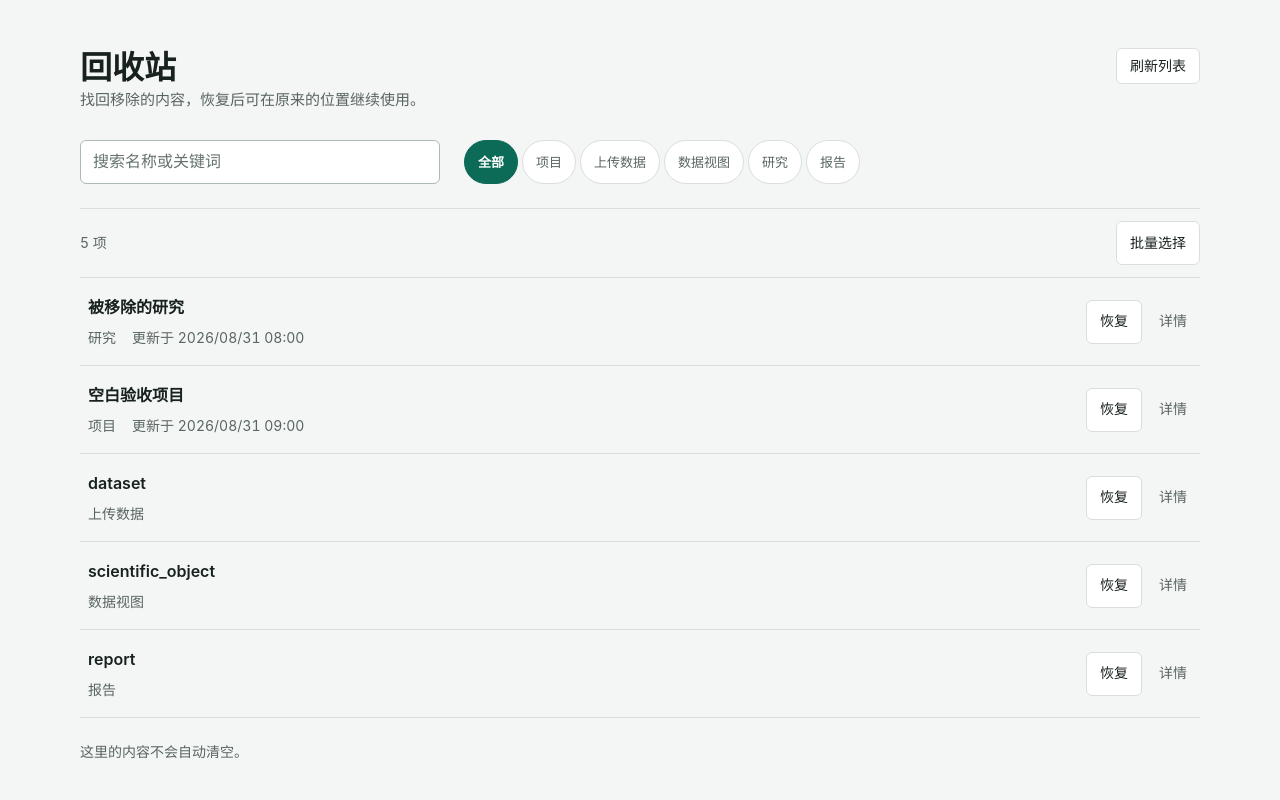
Scenario: restores a mixed selection with exact atomic service batches
Expected: the heading "空白验收项目" is shown, [88,385,184,405]
Click the button "批量选择" at (1158, 243), box [1116,221,1200,265]
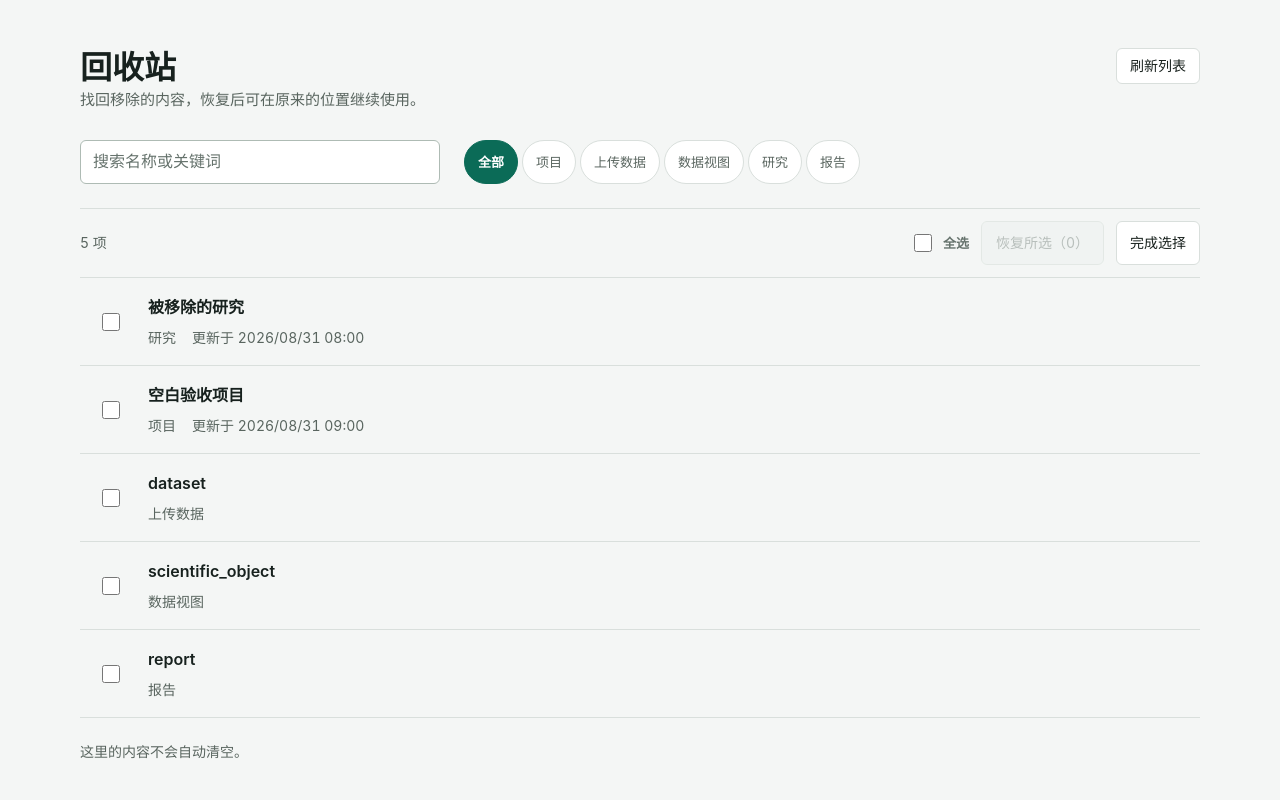
Click the checkbox named "选择当前显示的内容" at (923, 243), box [914,225,932,261]
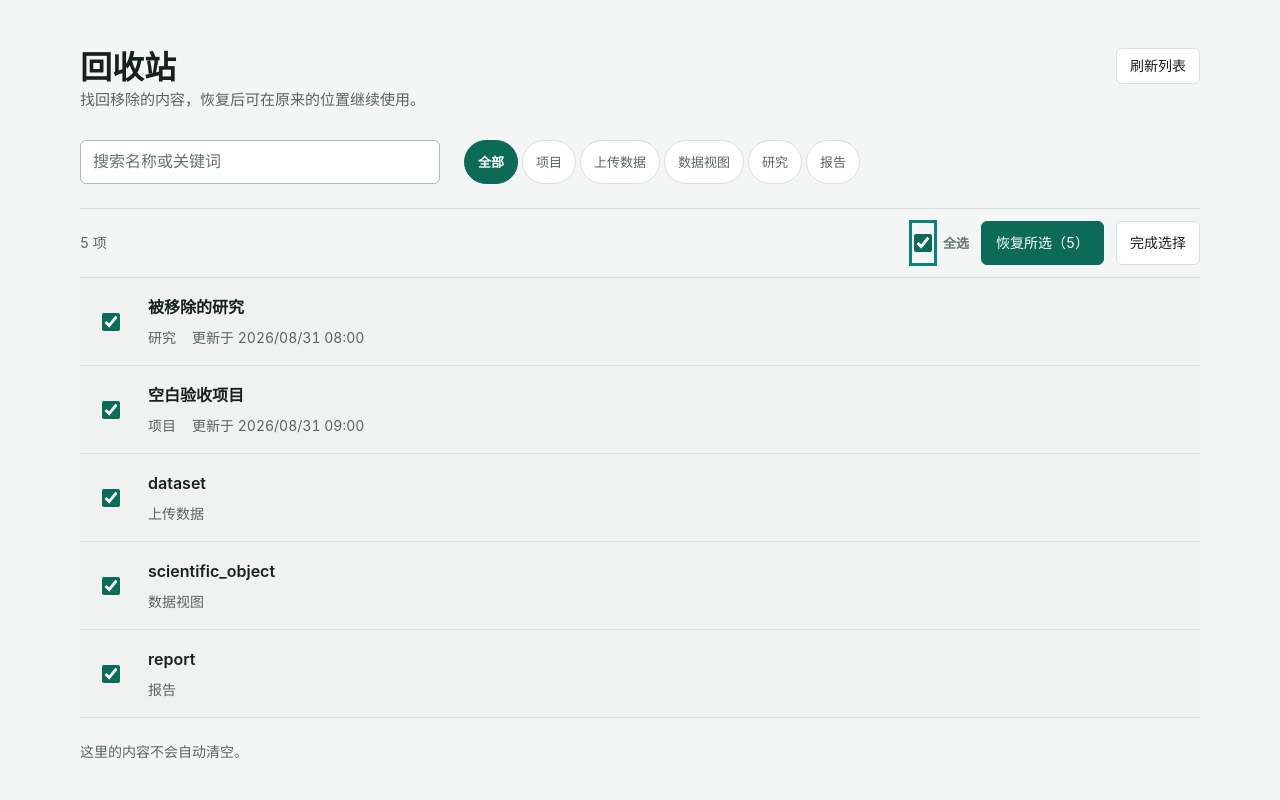
Click the button "恢复所选（5）" at (1042, 243), box [981,221,1104,265]
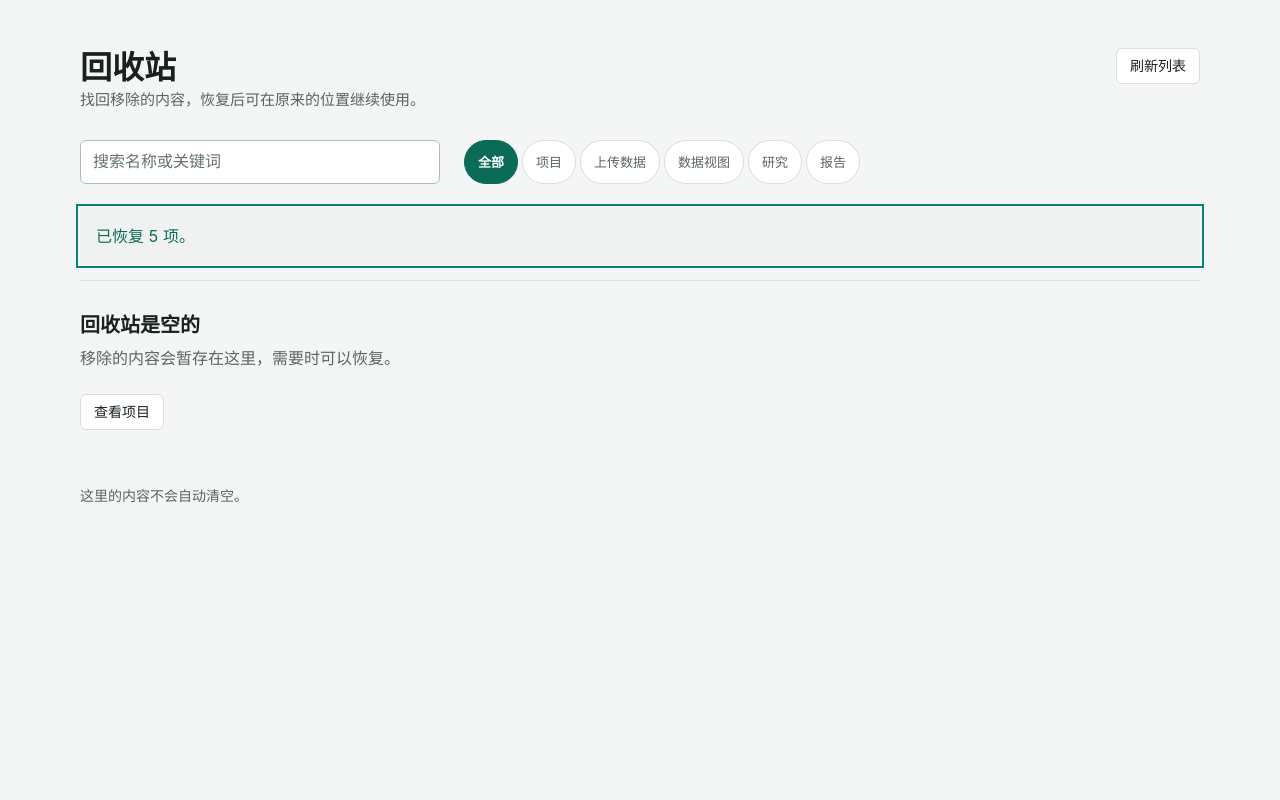
Now the text "已恢复 5 项。" is shown, box [80,208,1200,264]
Now the heading "回收站是空的" is shown, box [80,313,200,337]
